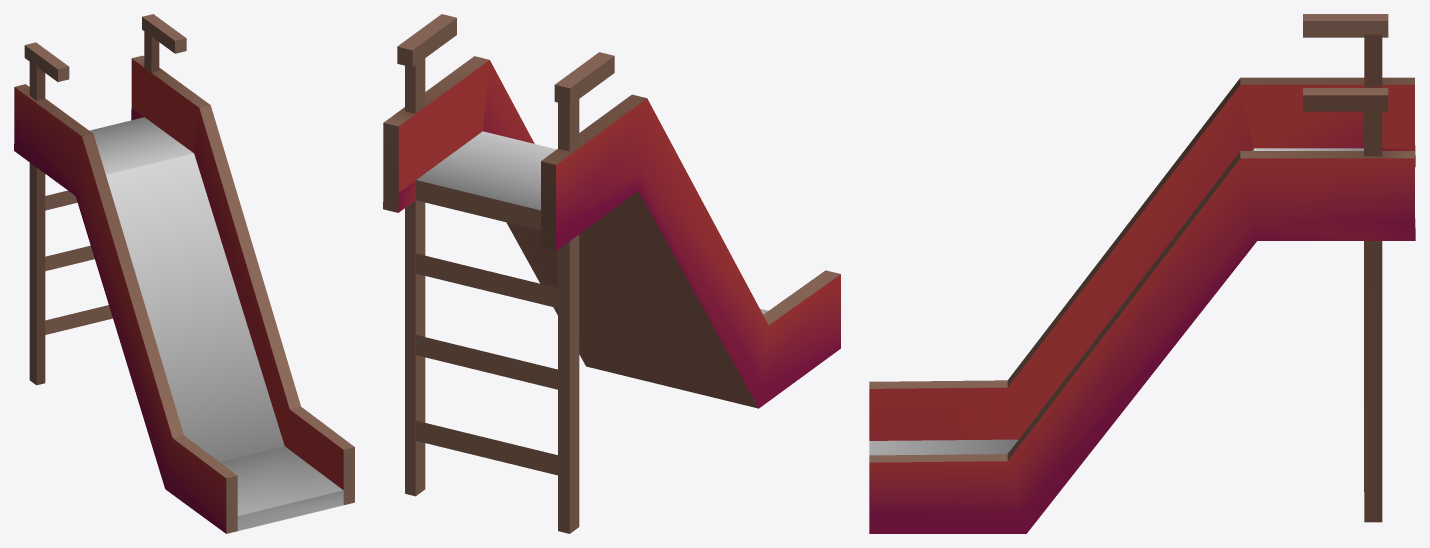
Rendered from slide.fbx.
3 renders of one model, left to right at view 1: azimuth 30°, elevation 25°; view 2: azimuth 150°, elevation 25°; view 3: azimuth 270°, elevation 25°, orthographic. The views are drawn at different scales.
Visible parts, largest first — view 1: slide; view 2: slide; view 3: slide.
Part boxes in pixels (x1,y1,x2,y2): slide: (14, 14, 354, 533); slide: (383, 14, 840, 533); slide: (869, 14, 1415, 533).
Size of the model in its own units: 0.6859 by 1.74 by 1.96.
